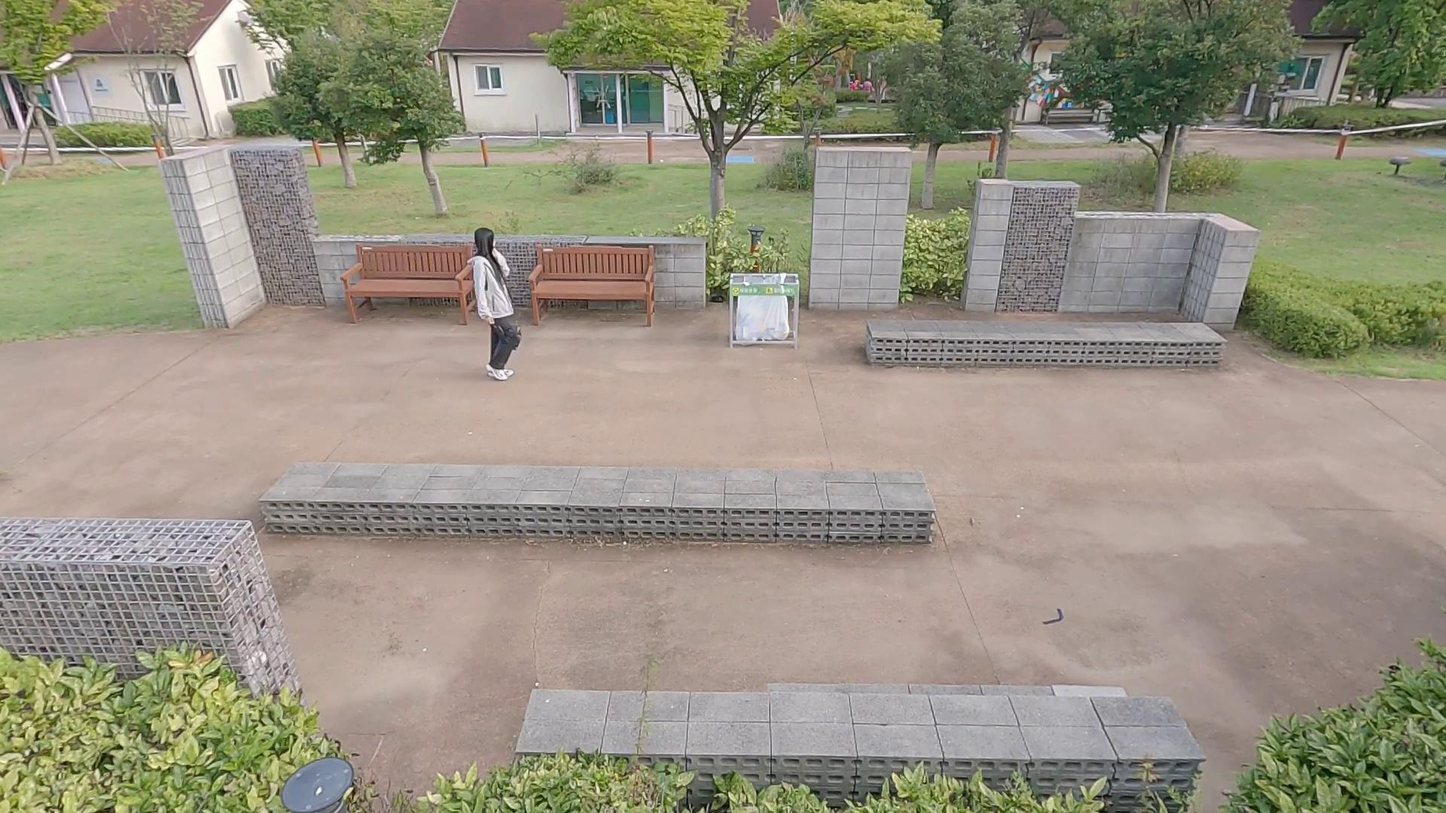person: (469, 227, 520, 382)
trash: (486, 317, 525, 352)
